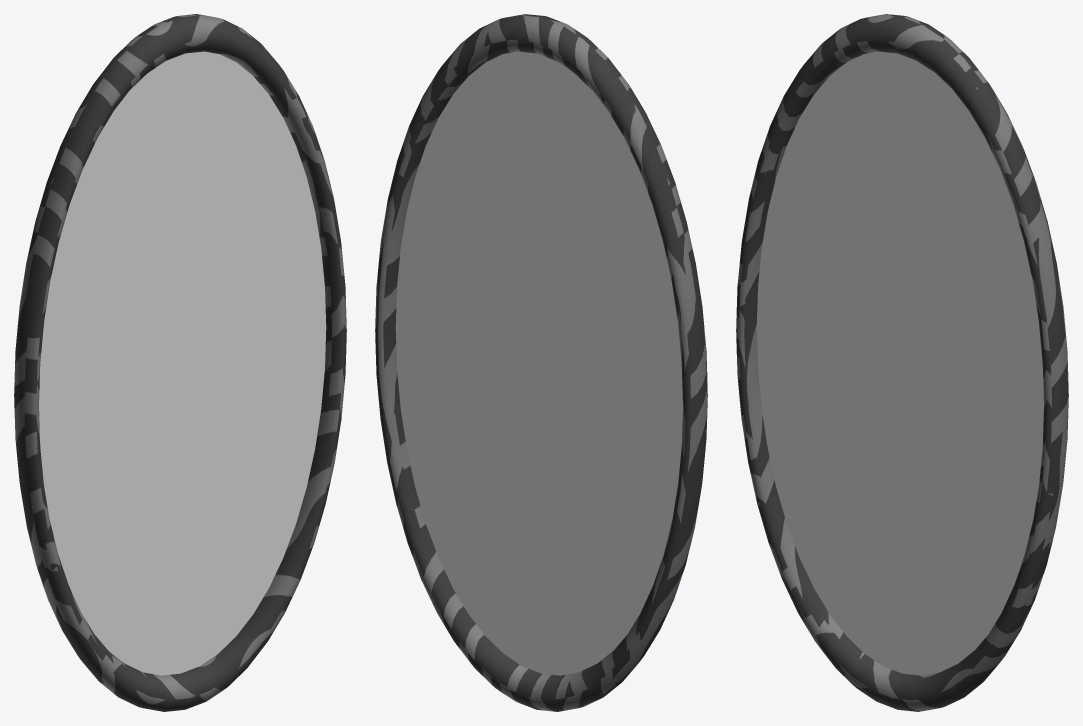
The model's file is lens.fbx.
3 renders of one model, left to right at view 1: azimuth 30°, elevation 25°; view 2: azimuth 150°, elevation 25°; view 3: azimuth 330°, elevation 25°, orthographic.
Parts seen in each view (by area): view 1: Cylinder, Torus_001; view 2: Cylinder, Torus_001; view 3: Cylinder, Torus_001.
Boxes of the visible parts, x1,y1,x2,y2 form: Cylinder: [39, 51, 326, 675]; Torus_001: [14, 14, 346, 711]; Cylinder: [395, 51, 682, 675]; Torus_001: [375, 14, 707, 711]; Cylinder: [756, 51, 1043, 675]; Torus_001: [736, 14, 1068, 711].
Size of the model in its own units: 5.84 by 11.9 by 0.6013.
